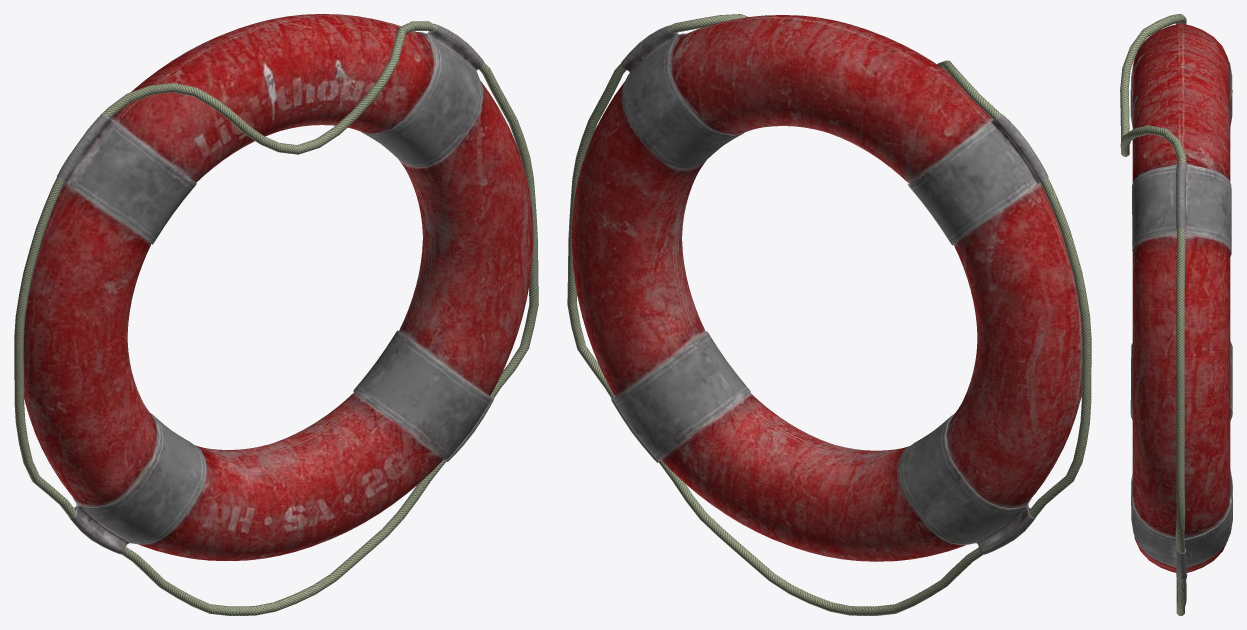
The model's file is lifebuoy_4k.gltf.
The picture shows the model from 3 angles, left to right: view 1: azimuth 30°, elevation 25°; view 2: azimuth 150°, elevation 25°; view 3: azimuth 270°, elevation 25°; orthographic projection. The views are drawn at different scales.
Visible parts, largest first — view 1: lifebuoy; view 2: lifebuoy; view 3: lifebuoy.
Boxes of the visible parts, x1=… form: lifebuoy: x1=14, y1=14, x2=538, y2=615; lifebuoy: x1=567, y1=14, x2=1091, y2=615; lifebuoy: x1=1120, y1=14, x2=1232, y2=615.
Size of the model in its own units: 0.7831 by 0.8412 by 0.1551.
Materials: 1 (1 with a texture image).
